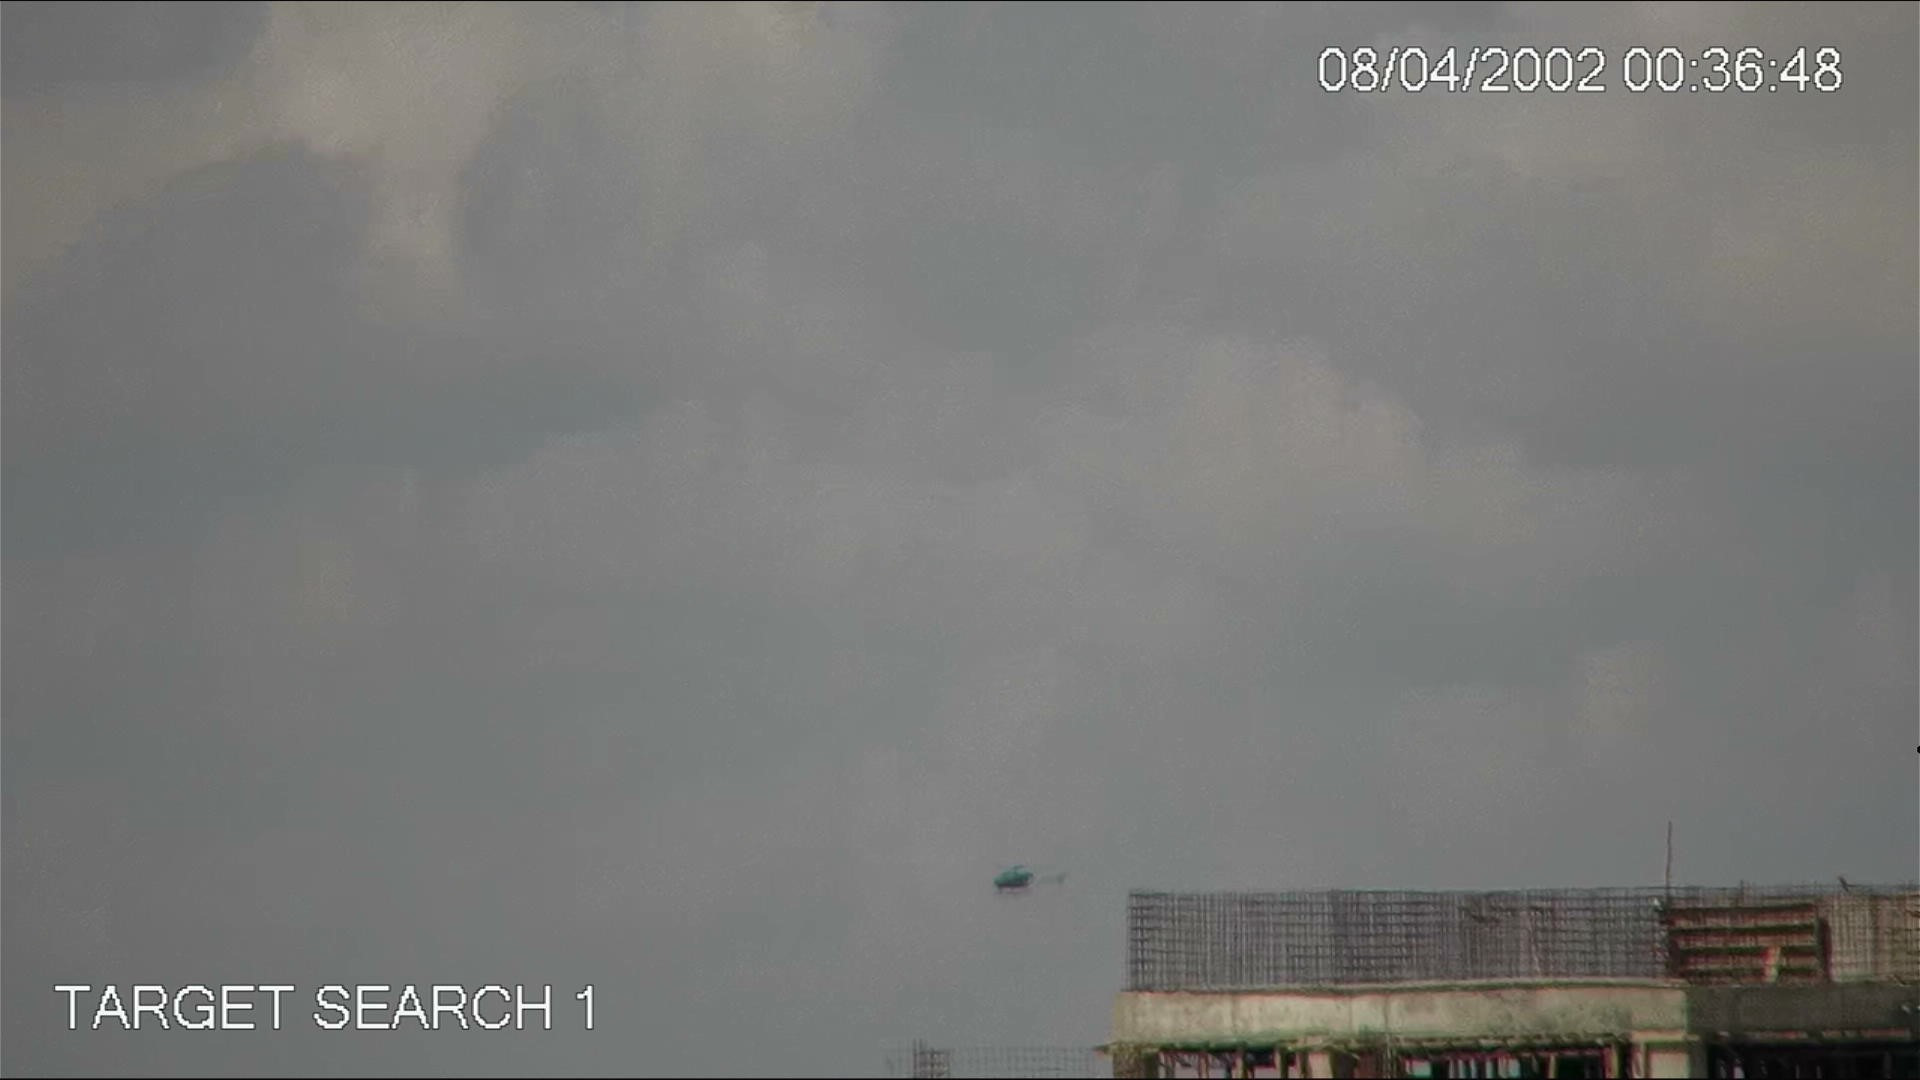SU_30: (982, 856, 1075, 905)
